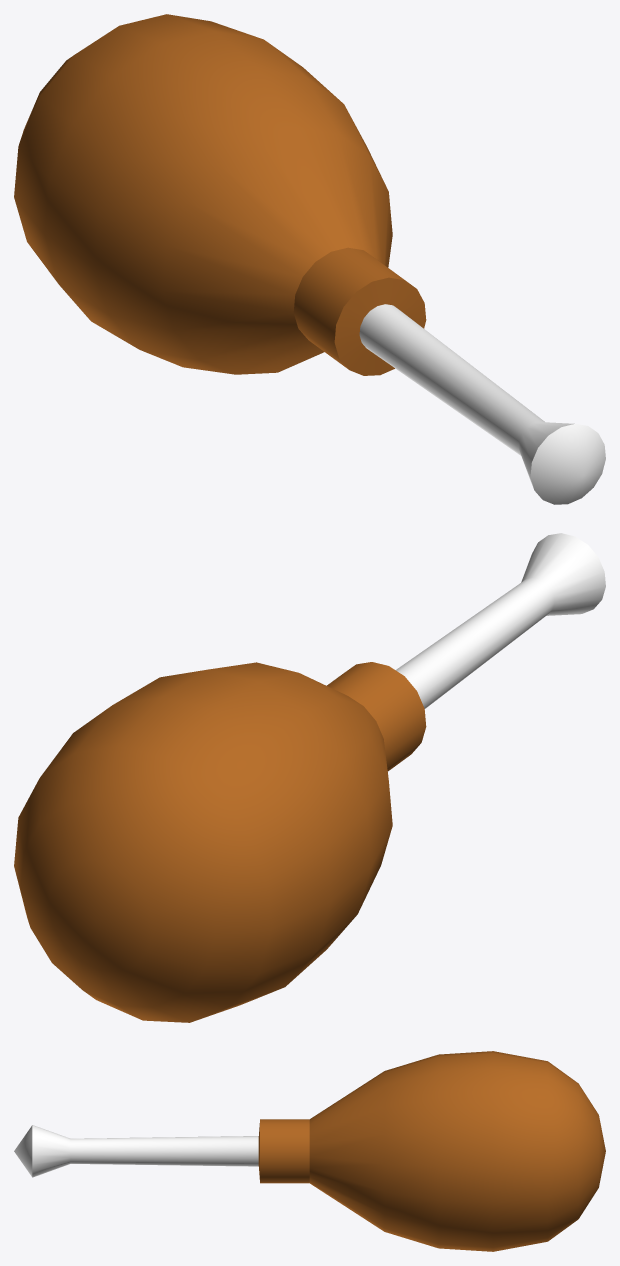
The model's file is Unwrapped_meat1.fbx.
3 renders of one model, top to bottom at view 1: azimuth 30°, elevation 25°; view 2: azimuth 150°, elevation 25°; view 3: azimuth 270°, elevation 25°, orthographic. The views are drawn at different scales.
Visible parts, largest first — view 1: Sphere001; view 2: Sphere001; view 3: Sphere001.
Part boxes in pixels (bbox=[...]): Sphere001: bbox=[14, 14, 605, 504]; Sphere001: bbox=[14, 533, 605, 1022]; Sphere001: bbox=[14, 1051, 605, 1251].
Bounding box in the file's own units: 17.34 × 17.27 × 51.11.
